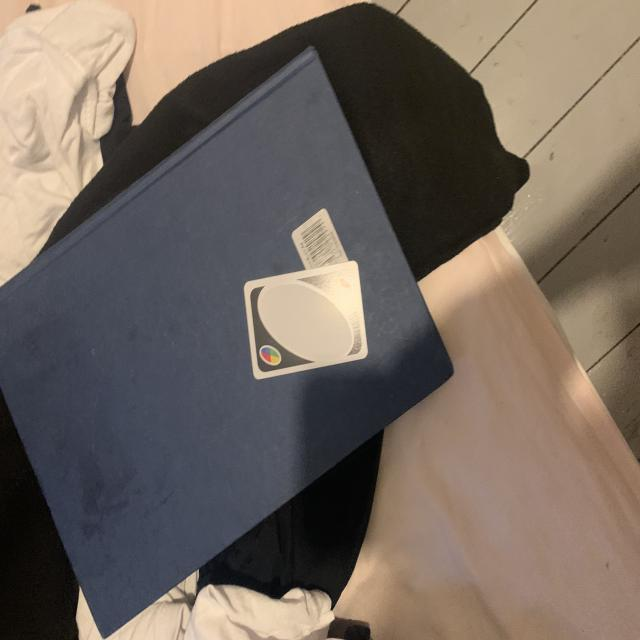lcolor-40: (256, 343, 284, 369)
